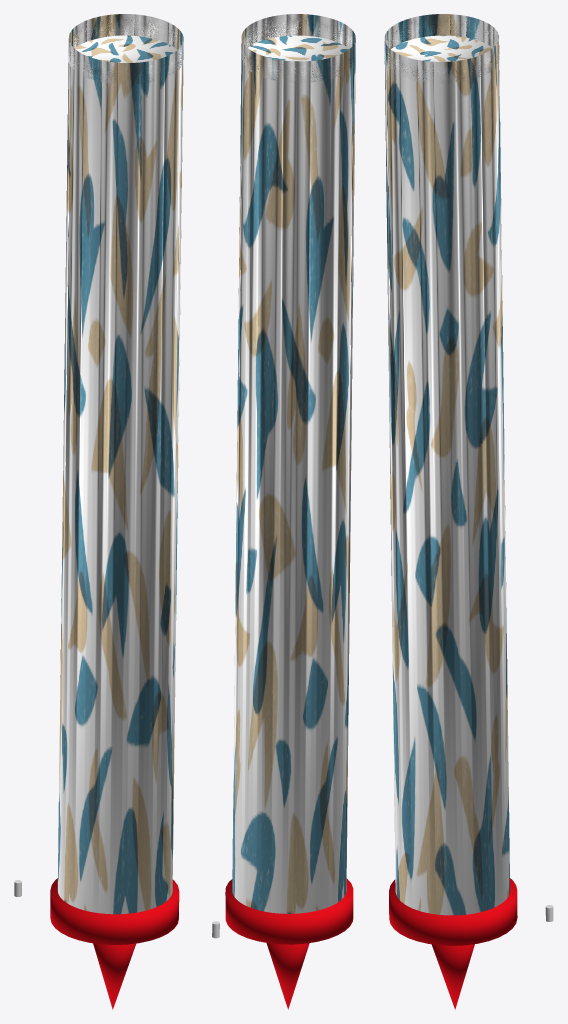
The model's file is sparkler3.glb.
The picture shows the model from 3 angles, left to right: view 1: azimuth 90°, elevation 25°; view 2: azimuth 150°, elevation 25°; view 3: azimuth 270°, elevation 25°; orthographic projection.
Visible parts, largest first — view 1: Candle_Body, Candle_Collar, Candle_Tip; view 2: Candle_Body, Candle_Collar, Candle_Tip; view 3: Candle_Body, Candle_Collar, Candle_Tip.
Part boxes in pixels (x1,y1,x2,y2): Candle_Body: (57,14,183,914); Candle_Collar: (50,878,179,944); Candle_Tip: (93,943,135,1009); Candle_Body: (232,14,355,913); Candle_Collar: (225,878,353,944); Candle_Tip: (266,943,309,1009); Candle_Body: (384,14,510,915); Candle_Collar: (389,878,517,945); Candle_Tip: (431,944,474,1009).
Bounding box in the file's own units: 0.1068 × 0.8899 × 0.1404.
Materials: 3 (1 with a texture image).
